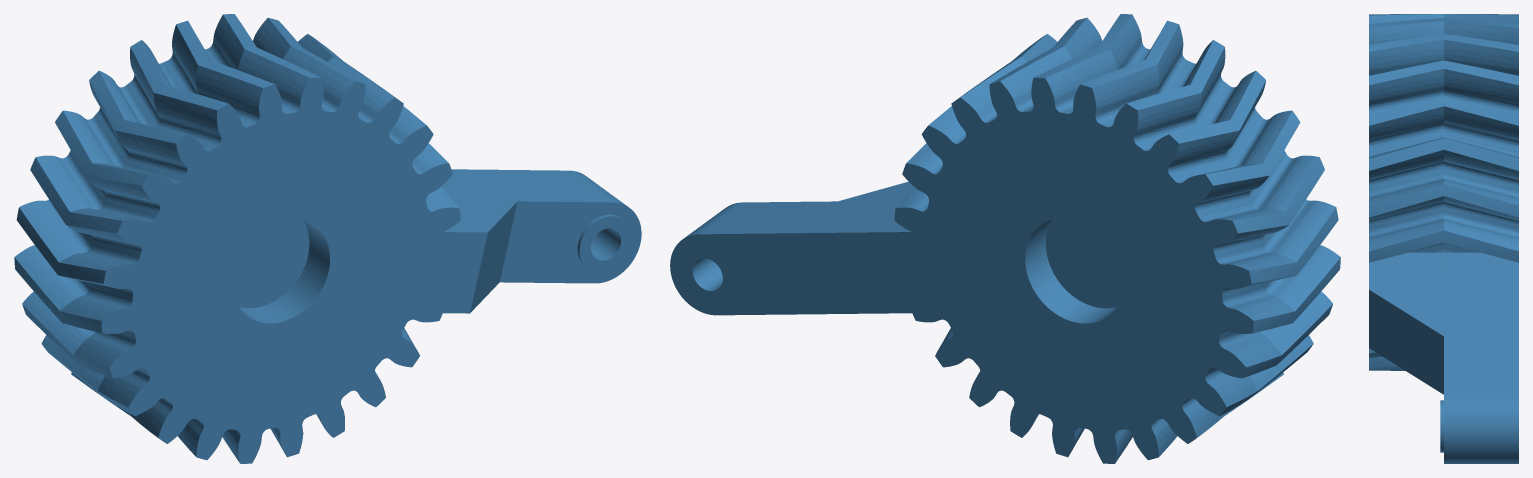
The model's file is right_gear.obj.
The picture shows the model from 3 angles, left to right: view 1: azimuth 30°, elevation 25°; view 2: azimuth 150°, elevation 25°; view 3: azimuth 270°, elevation 25°; orthographic projection. The views are drawn at different scales.
Visible parts, largest first — view 1: geometry_1; view 2: geometry_1; view 3: geometry_1.
Part boxes in pixels (box(x1,y1,x2,y2)): geometry_1: box(14, 14, 641, 463); geometry_1: box(670, 14, 1340, 463); geometry_1: box(1369, 14, 1518, 463).
Bounding box in the file's own units: 77.4 × 47.64 × 20.
